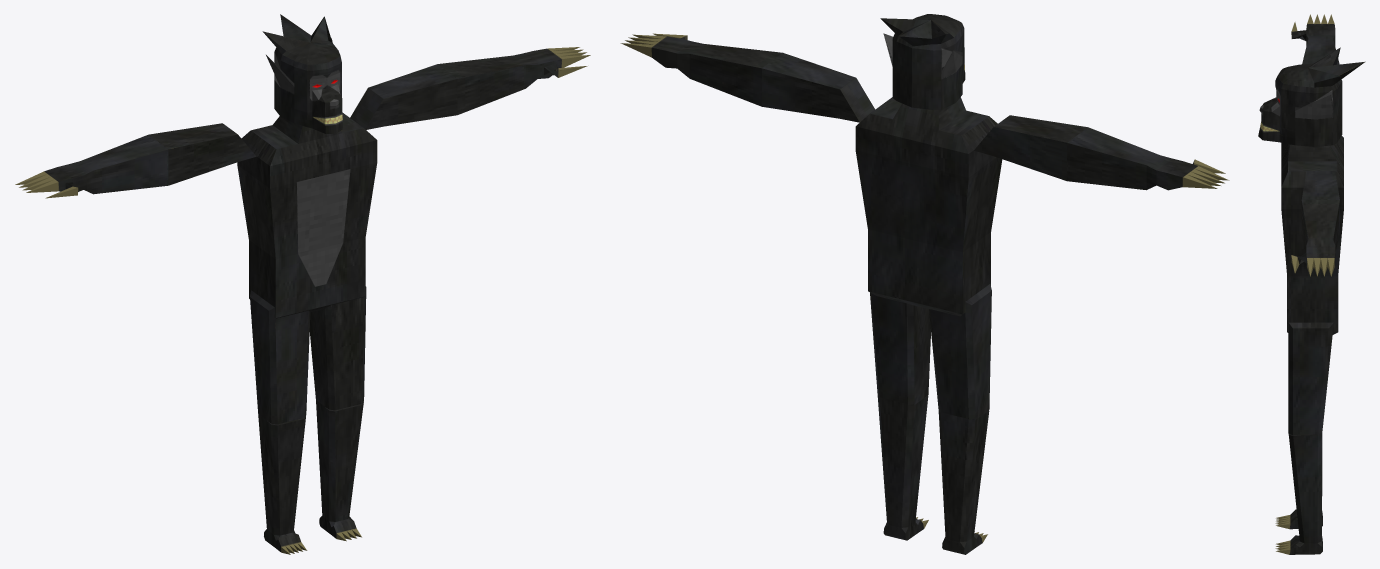
Rendered from werewolf.fbx.
3 views of the same model, side by side, from view 1: azimuth 30°, elevation 25°; view 2: azimuth 150°, elevation 25°; view 3: azimuth 270°, elevation 25° (orthographic). The views are drawn at different scales.
Parts seen in each view (by area): view 1: PlayerCharacter.001; view 2: PlayerCharacter.001; view 3: PlayerCharacter.001.
Boxes of the visible parts, x1,y1,x2,y2 form: PlayerCharacter.001: [15, 14, 590, 554]; PlayerCharacter.001: [620, 14, 1229, 554]; PlayerCharacter.001: [1258, 14, 1365, 554].
Bounding box in the file's own units: 1007 × 849 × 174.
1 material, 1 textured.
